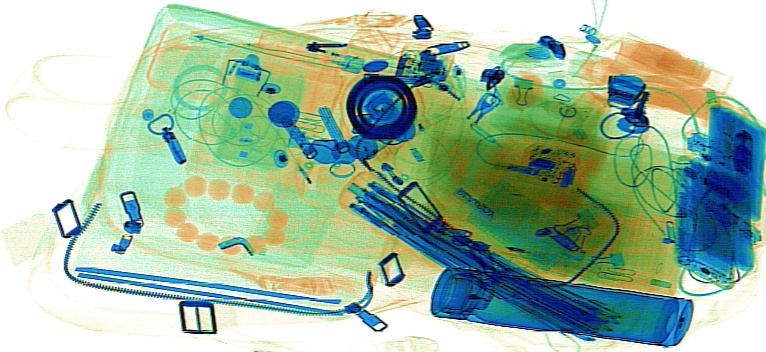lighter: (253, 24, 366, 75)
